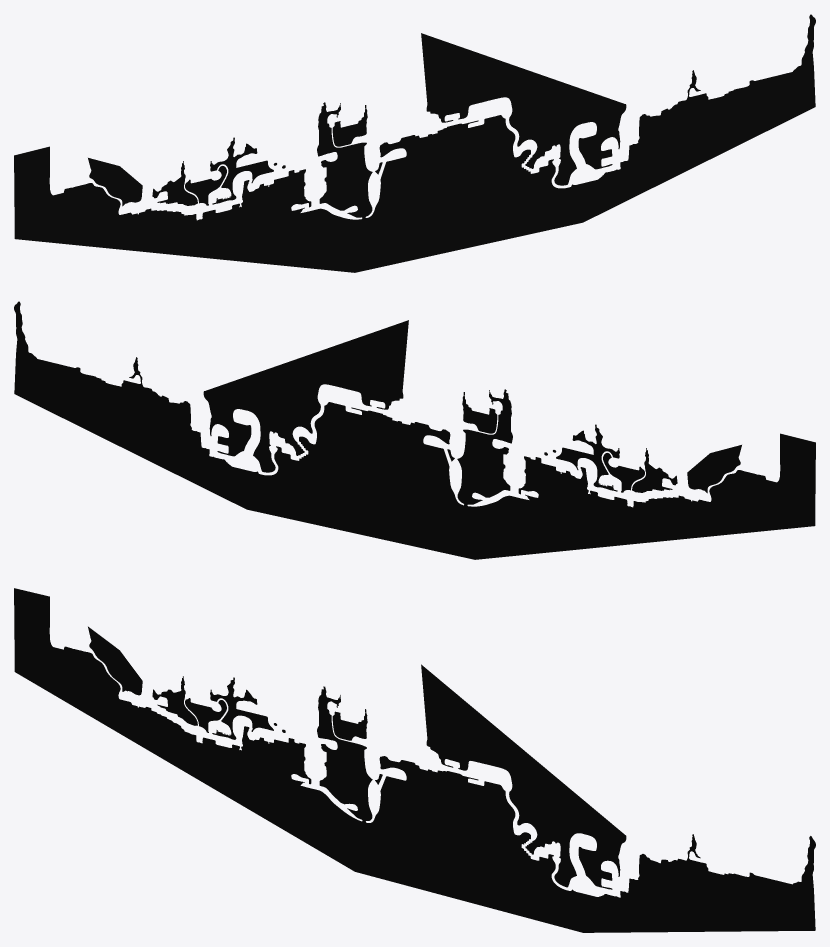
File: island03.glb
The picture shows the model from 3 angles, top to bottom: view 1: azimuth 30°, elevation 25°; view 2: azimuth 150°, elevation 25°; view 3: azimuth 330°, elevation 25°; orthographic projection.
Visible parts, largest first — view 1: island03; view 2: island03; view 3: island03.
Boxes of the visible parts, x1,y1,x2,y2 form: island03: (14,14,815,272); island03: (14,301,815,559); island03: (14,588,815,932).
Size of the model in its own units: 7740 by 2113 by 1.
Materials: 1 (1 with a texture image).
